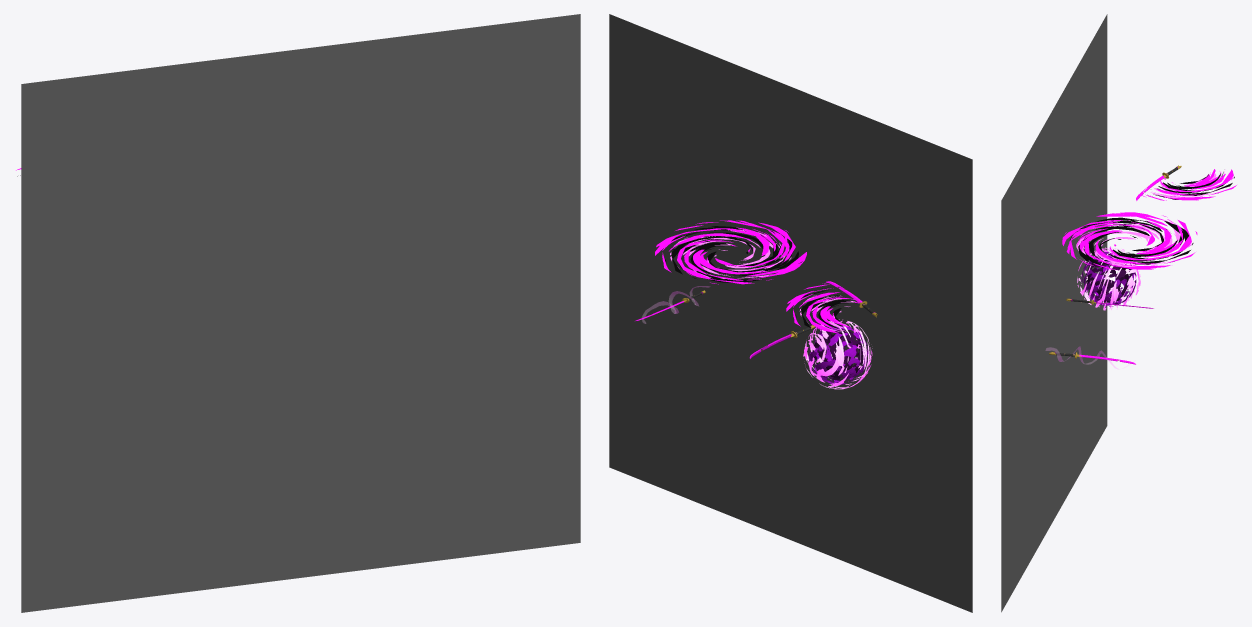
File: pink_katana_aura_set.glb
The picture shows the model from 3 angles, left to right: view 1: azimuth 30°, elevation 25°; view 2: azimuth 150°, elevation 25°; view 3: azimuth 270°, elevation 25°; orthographic projection. The views are drawn at different scales.
Visible parts, largest first — view 1: Plocha.001_6; view 2: Plocha.001_6, Kruh_0, Sphere.003_1, Kruh.001_4, Plocha_3; view 3: Plocha.001_6, Kruh_0, Sphere.003_1, Kruh.001_4, Plocha_3.
Part boxes in pixels (box(x1,y1,x2,y2)): Plocha.001_6: box(21, 14, 580, 612); Plocha.001_6: box(609, 14, 972, 612); Kruh_0: box(655, 220, 806, 284); Sphere.003_1: box(803, 319, 872, 389); Kruh.001_4: box(786, 282, 859, 333); Plocha_3: box(635, 286, 709, 323); Plocha.001_6: box(1001, 14, 1107, 612); Kruh_0: box(1062, 212, 1197, 270); Sphere.003_1: box(1077, 247, 1140, 310); Kruh.001_4: box(1140, 169, 1236, 200); Plocha_3: box(1046, 347, 1135, 369).
Bounding box in the file's own units: 14.74 × 15.16 × 7.89.
